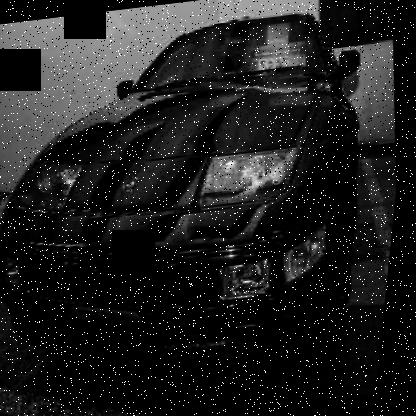not_emergency: (0, 3, 405, 385)
